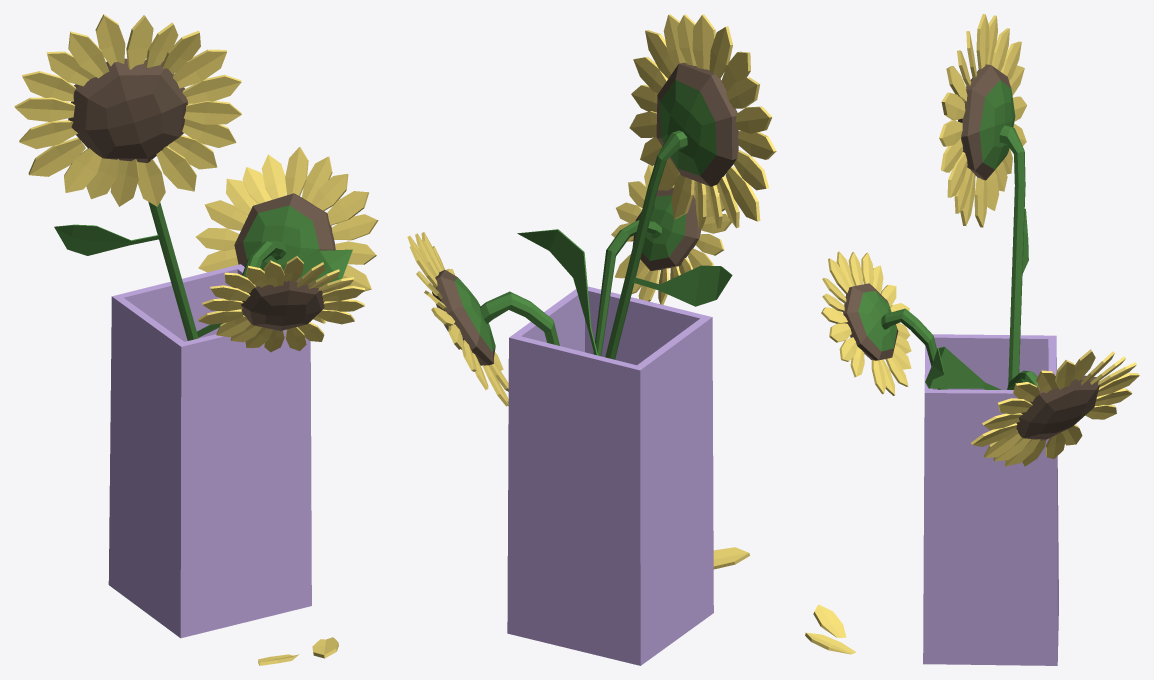
Rendered from Sunflowers_2.fbx.
3 views of the same model, side by side, from view 1: azimuth 30°, elevation 25°; view 2: azimuth 150°, elevation 25°; view 3: azimuth 270°, elevation 25° (orthographic). The views are drawn at different scales.
Visible parts, largest first — view 1: Sunflowers_2; view 2: Sunflowers_2; view 3: Sunflowers_2.
Part boxes in pixels (box(x1,y1,x2,y2)): Sunflowers_2: box(14, 14, 378, 665); Sunflowers_2: box(407, 14, 776, 665); Sunflowers_2: box(805, 14, 1139, 665).
Bounding box in the file's own units: 46.24 × 40.8 × 76.97.
